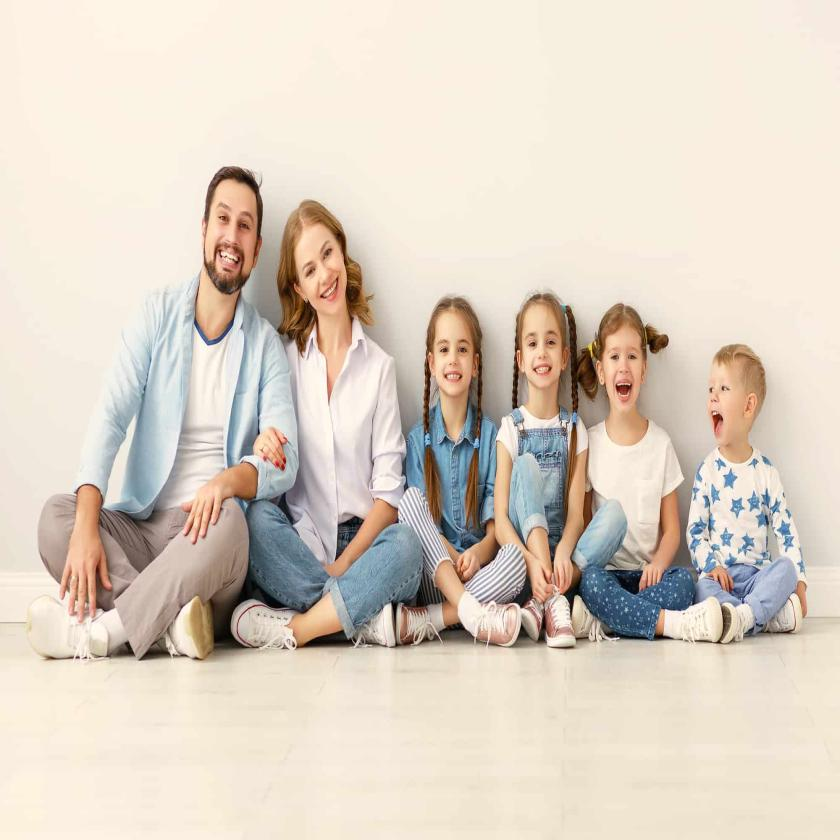Sin_casco: (698, 325, 786, 456), (282, 186, 357, 332), (419, 276, 493, 410), (206, 158, 266, 296), (597, 291, 655, 417), (515, 284, 569, 403)
